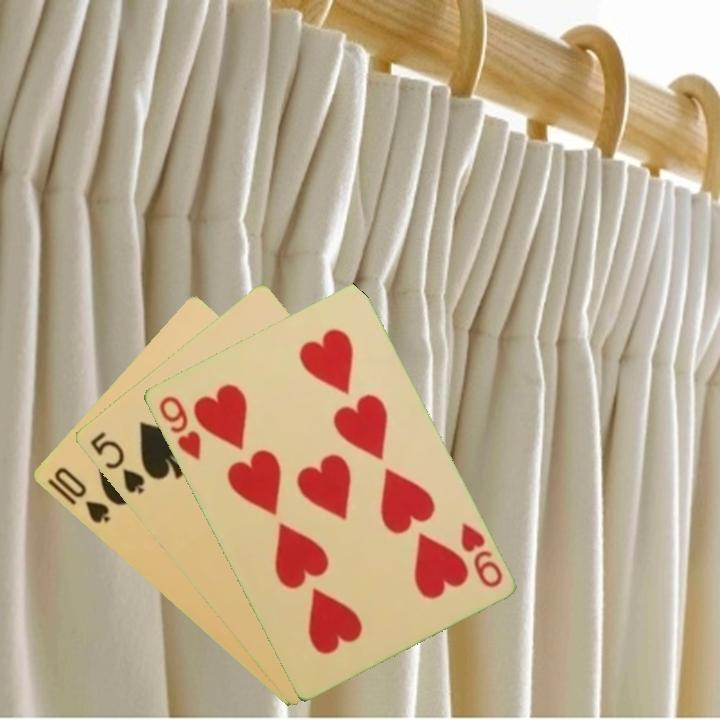10s: (49, 463, 112, 527)
5s: (86, 428, 147, 498)
9h: (154, 392, 204, 464), (456, 519, 505, 591)
